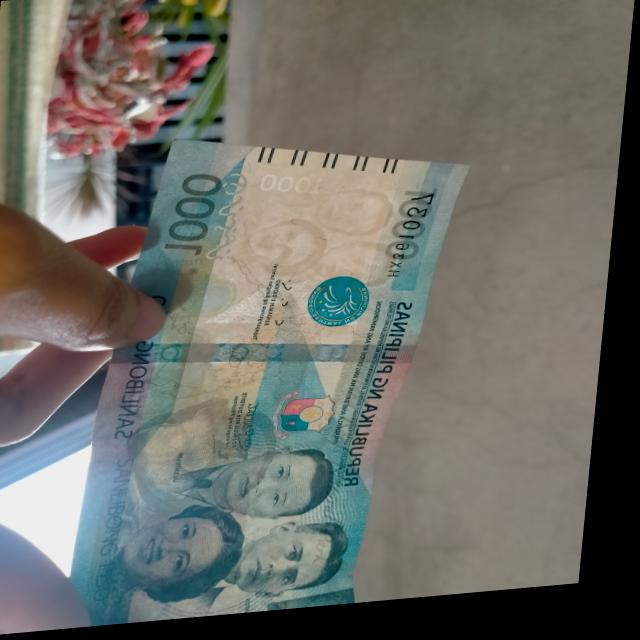security_thread: (117, 326, 438, 392)
see_through_mark: (196, 163, 267, 279)
value_watermark: (258, 174, 335, 205)
watermark: (243, 193, 411, 310)
